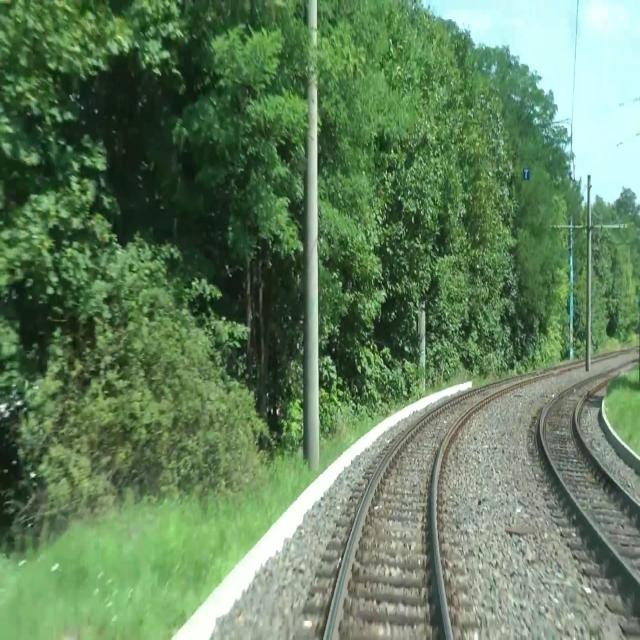rail-track: (330, 384, 504, 639), (543, 363, 640, 575)
